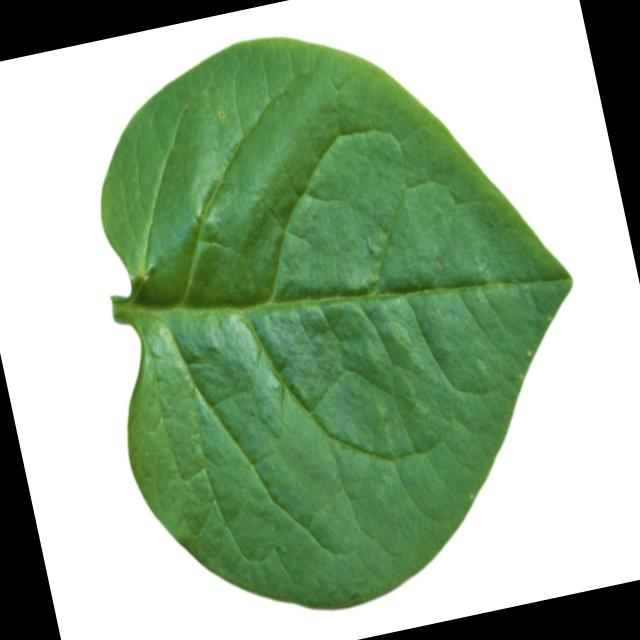Medicinal-Basale: (46, 0, 630, 640)
